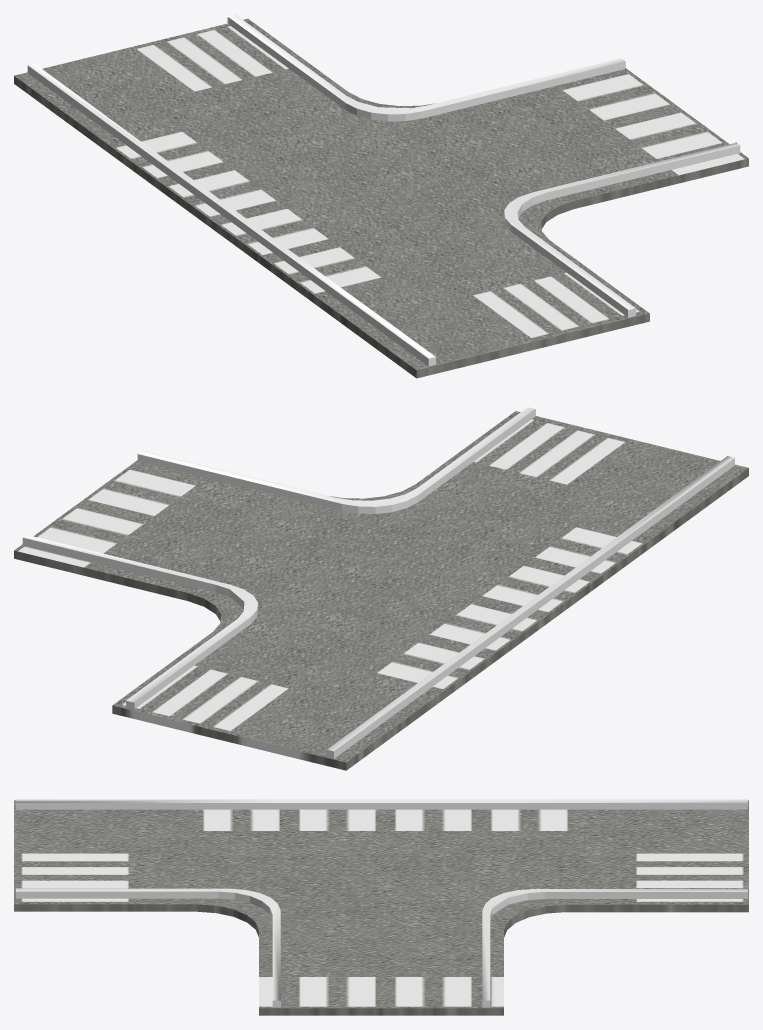
Rendered from 3YOL.fbx.
3 views of the same model, one above another, from view 1: azimuth 30°, elevation 25°; view 2: azimuth 150°, elevation 25°; view 3: azimuth 270°, elevation 25° (orthographic). The views are drawn at different scales.
Visible parts, largest first — view 1: 3YOL; view 2: 3YOL; view 3: 3YOL.
Boxes of the visible parts, bbox=[...] form: 3YOL: bbox=[14, 14, 748, 378]; 3YOL: bbox=[14, 407, 748, 770]; 3YOL: bbox=[14, 799, 748, 1015].
Size of the model in its own units: 1200 by 38.91 by 1794.
